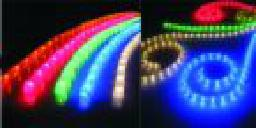LED: (25, 19, 128, 109), (177, 49, 245, 109)
